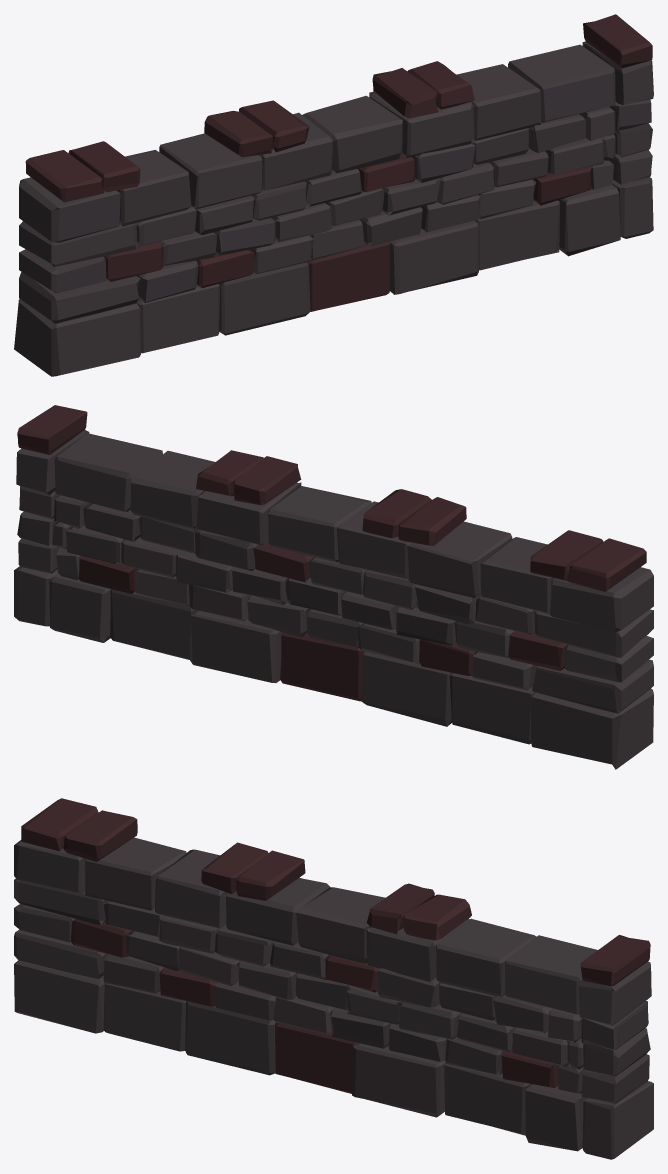
The model's file is wall_normal.fbx.
3 views of the same model, one above another, from view 1: azimuth 30°, elevation 25°; view 2: azimuth 150°, elevation 25°; view 3: azimuth 330°, elevation 25° (orthographic).
Visible parts, largest first — view 1: wall alone normal; view 2: wall alone normal; view 3: wall alone normal.
Boxes of the visible parts, x1,y1,x2,y2 form: wall alone normal: (14, 14, 653, 376); wall alone normal: (14, 405, 653, 769); wall alone normal: (14, 798, 653, 1159).
Bounding box in the file's own units: 1924 × 596 × 234.
